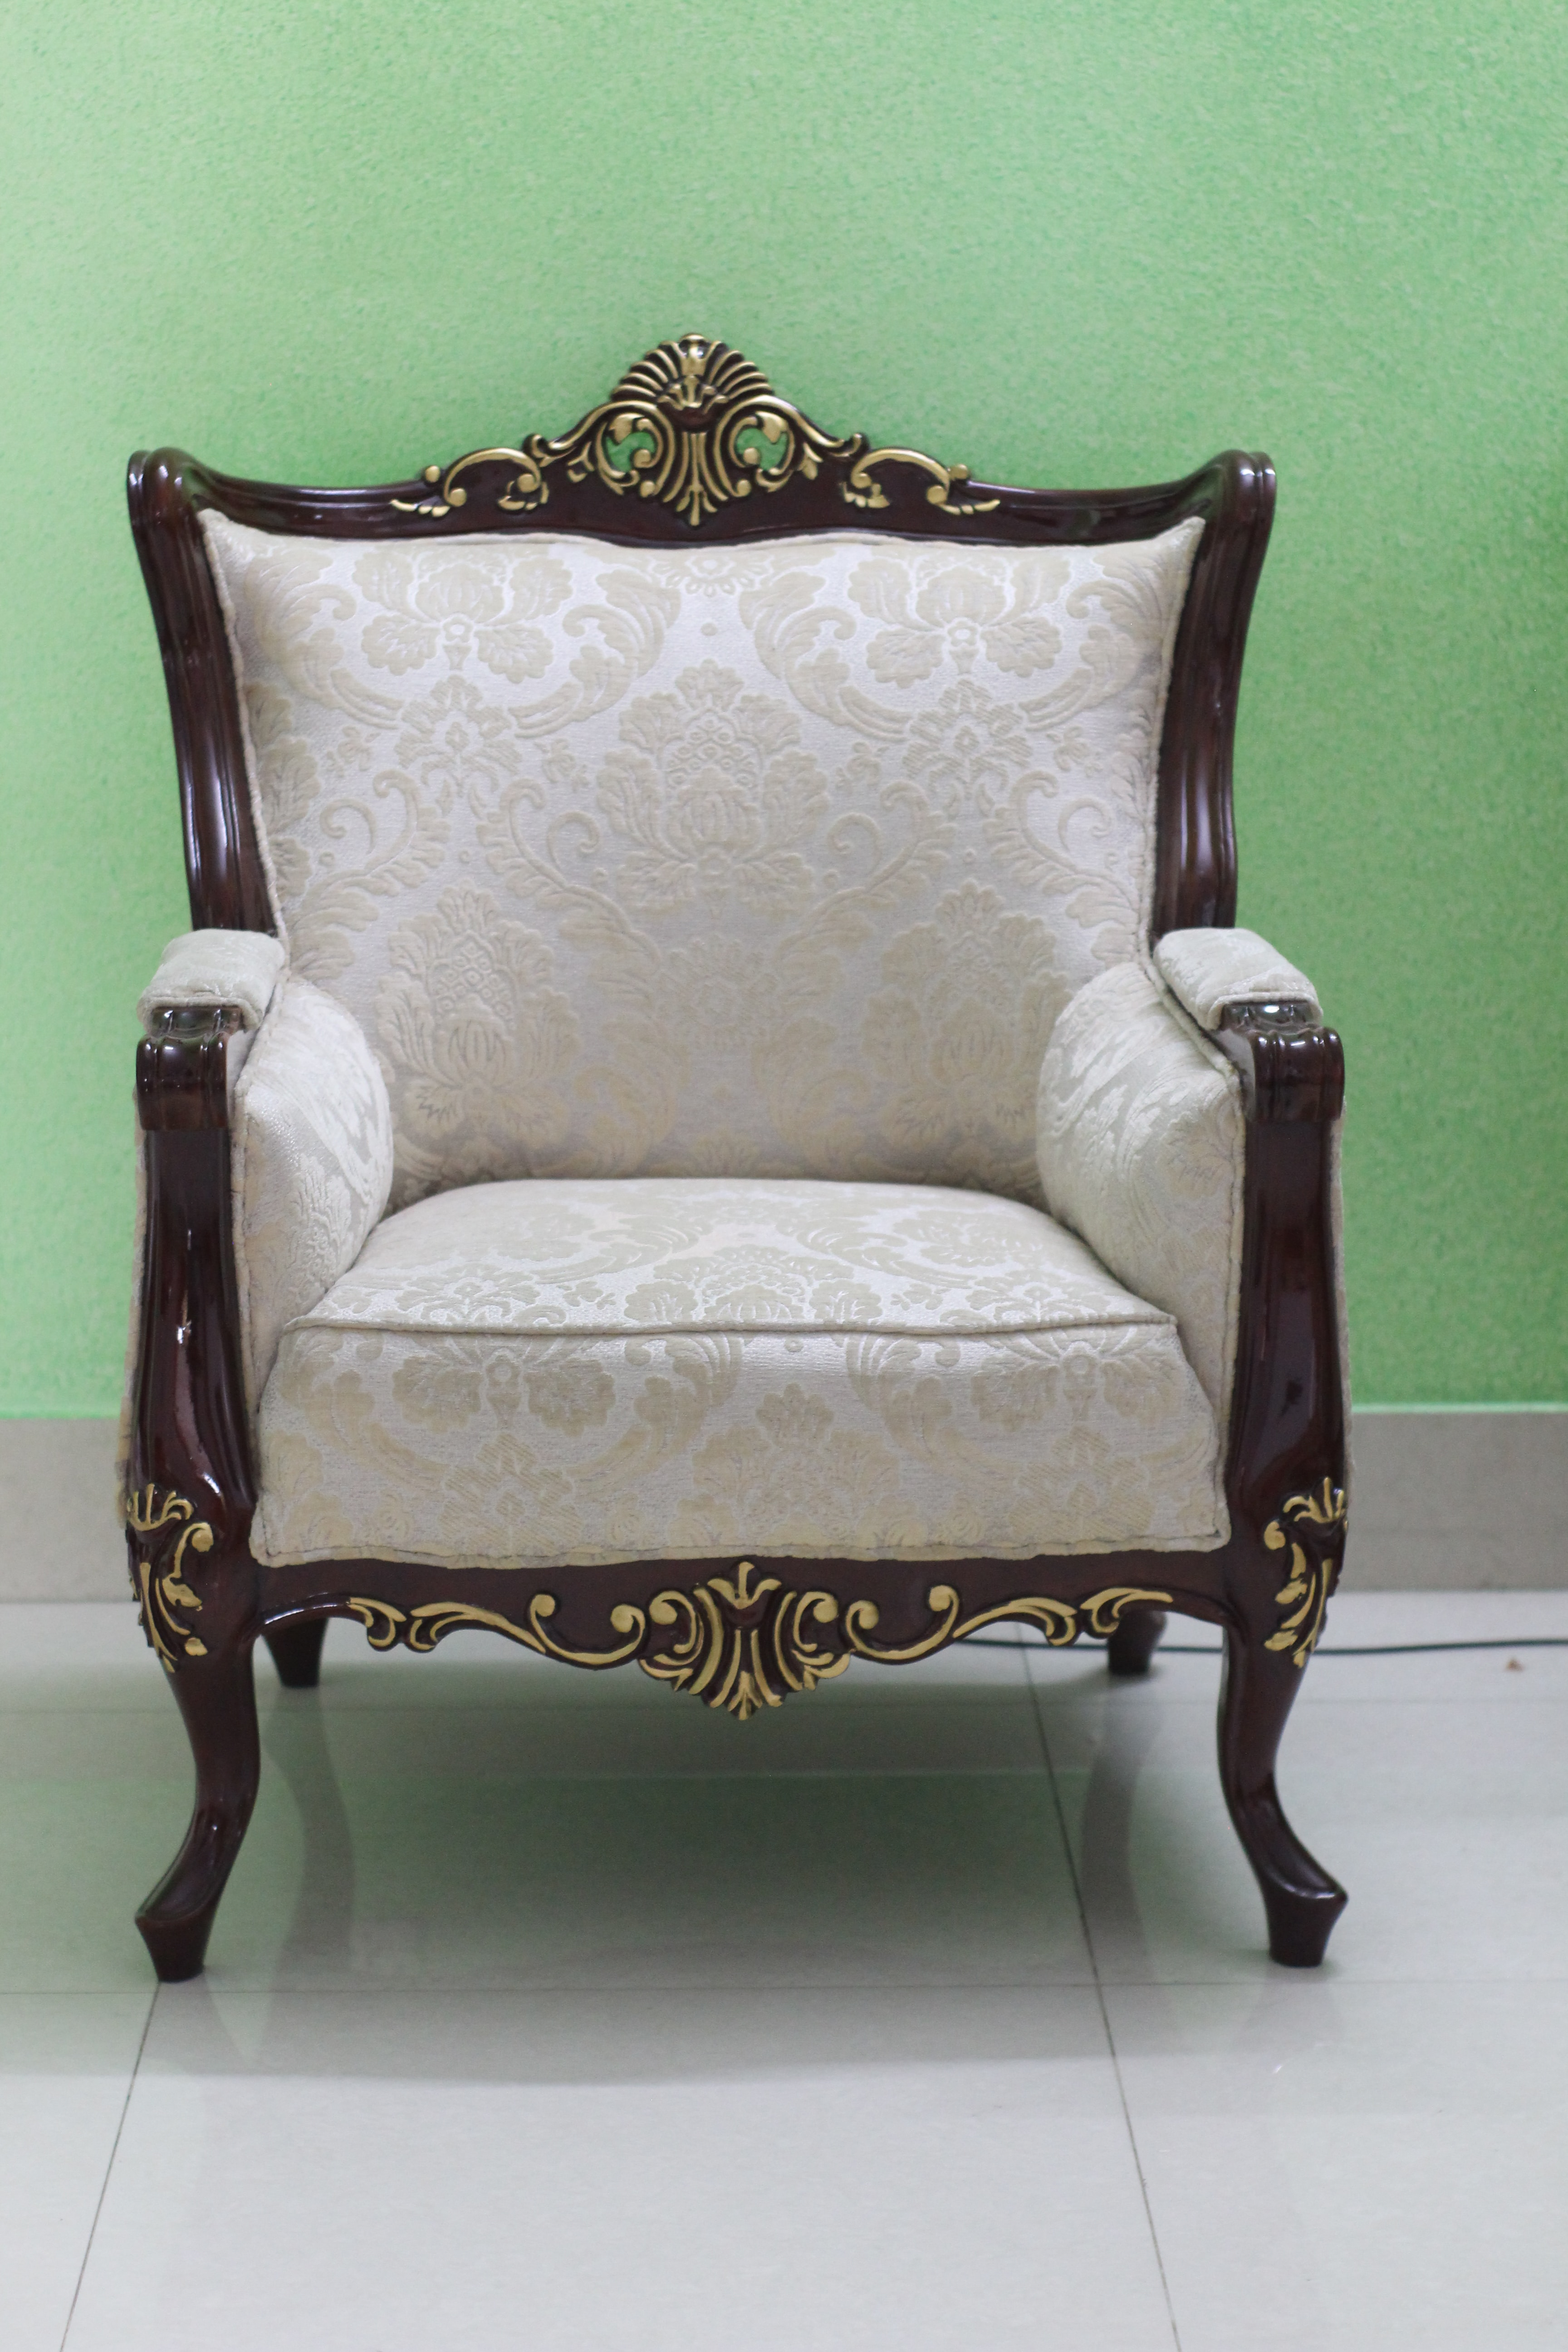Chair: (91, 303, 1381, 2019)
